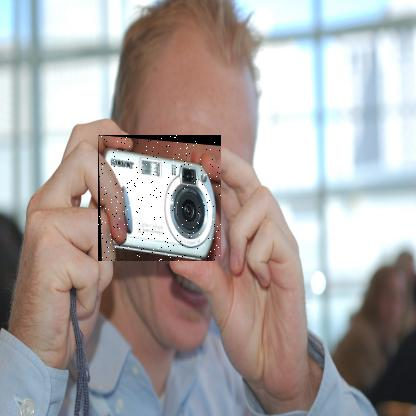Camera: (99, 136, 223, 263)
